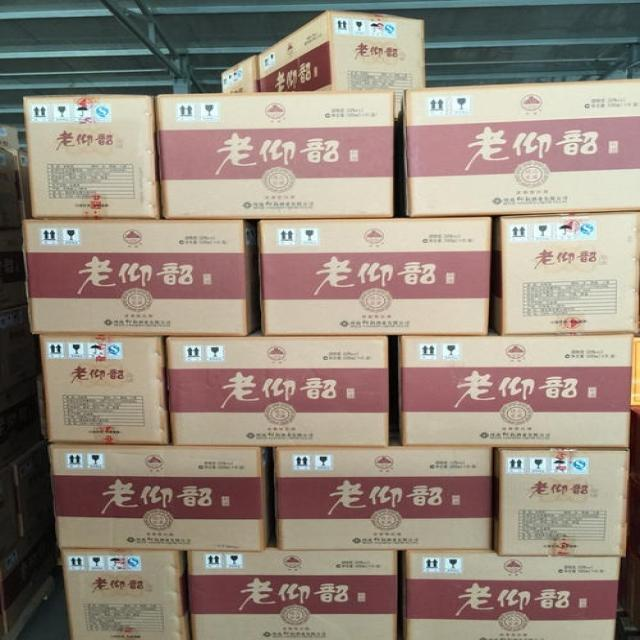box: (401, 79, 640, 217), (156, 91, 396, 220), (255, 214, 493, 336), (20, 217, 260, 336), (397, 327, 632, 448), (166, 325, 390, 447), (273, 438, 493, 550), (49, 444, 274, 551), (187, 538, 398, 640), (399, 549, 621, 640), (492, 211, 640, 335), (257, 11, 426, 117), (24, 94, 160, 219), (493, 447, 630, 557), (40, 335, 169, 444), (60, 548, 191, 640), (9, 439, 52, 537), (0, 376, 42, 470), (0, 303, 40, 392), (0, 228, 27, 309), (0, 465, 22, 556), (0, 148, 20, 228), (221, 55, 260, 94), (13, 151, 29, 215), (0, 124, 18, 148)
